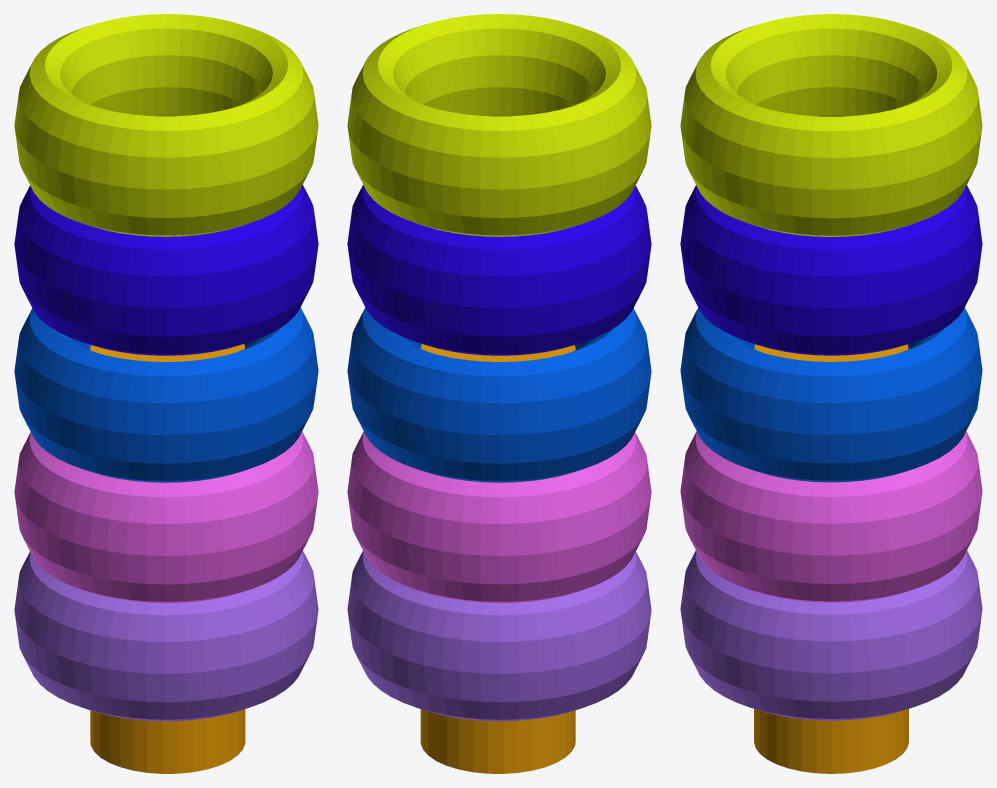
File: donut.fbx
The picture shows the model from 3 angles, left to right: view 1: azimuth 30°, elevation 25°; view 2: azimuth 150°, elevation 25°; view 3: azimuth 270°, elevation 25°; orthographic projection.
Visible parts, largest first — view 1: Torus.005, Torus.003, Torus.001, Torus.004, Torus.002, Cylinder.003; view 2: Torus.005, Torus.003, Torus.001, Torus.004, Torus.002, Cylinder.003; view 3: Torus.005, Torus.003, Torus.001, Torus.004, Torus.002, Cylinder.003.
Boxes of the visible parts, left/top/right/bottom form: Torus.005: left=14, top=14, right=318, bottom=236; Torus.003: left=14, top=307, right=318, bottom=482; Torus.001: left=14, top=431, right=318, bottom=603; Torus.004: left=14, top=185, right=318, bottom=355; Torus.002: left=14, top=551, right=318, bottom=721; Cylinder.003: left=90, top=344, right=245, bottom=773; Torus.005: left=347, top=14, right=651, bottom=236; Torus.003: left=347, top=307, right=651, bottom=482; Torus.001: left=347, top=431, right=651, bottom=603; Torus.004: left=347, top=185, right=651, bottom=355; Torus.002: left=347, top=551, right=651, bottom=721; Cylinder.003: left=420, top=344, right=575, bottom=773; Torus.005: left=680, top=14, right=982, bottom=236; Torus.003: left=680, top=308, right=982, bottom=482; Torus.001: left=680, top=431, right=982, bottom=602; Torus.004: left=680, top=185, right=982, bottom=355; Torus.002: left=680, top=550, right=982, bottom=720; Cylinder.003: left=754, top=344, right=908, bottom=773.
Bounding box in the file's own units: 274 × 672 × 272.
